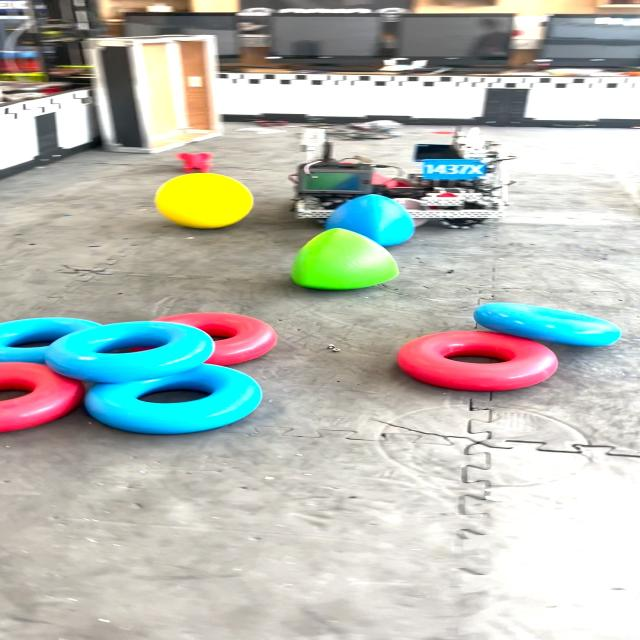Blue-Ring: (84, 364, 262, 434), (44, 321, 216, 382), (473, 302, 622, 346), (0, 318, 100, 364)
Red-Ring: (398, 331, 558, 391), (157, 312, 278, 365), (0, 362, 84, 432)
